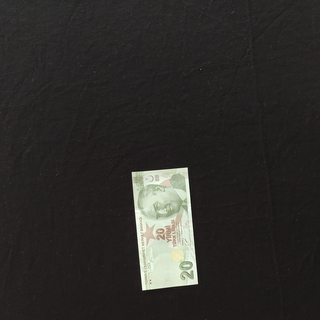20TLFront: (131, 166, 198, 290)
